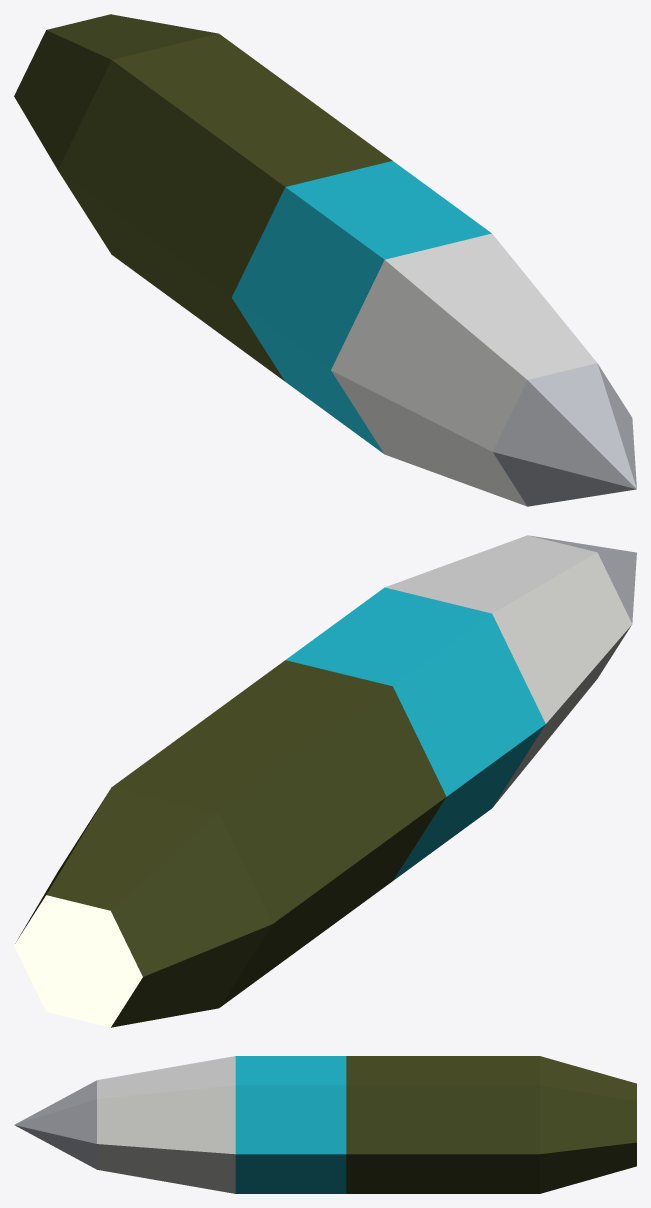
The model's file is proj_shell.glb.
3 renders of one model, top to bottom at view 1: azimuth 30°, elevation 25°; view 2: azimuth 150°, elevation 25°; view 3: azimuth 270°, elevation 25°, orthographic. The views are drawn at different scales.
Visible parts, largest first — view 1: proj_shell; view 2: proj_shell; view 3: proj_shell.
Part boxes in pixels (x1,y1,x2,y2): proj_shell: (14,14,636,506); proj_shell: (14,535,636,1027); proj_shell: (14,1056,636,1193).
Size of the model in its own units: 0.2 by 0.1732 by 0.9.
